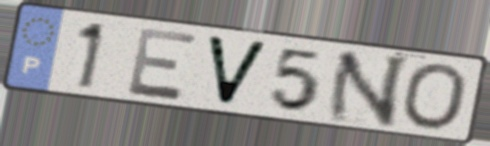1: (73, 22, 108, 92)
5: (267, 46, 329, 113)
E: (125, 25, 202, 104)
N: (323, 50, 414, 129)
O: (398, 61, 471, 132)
V: (203, 32, 273, 109)
